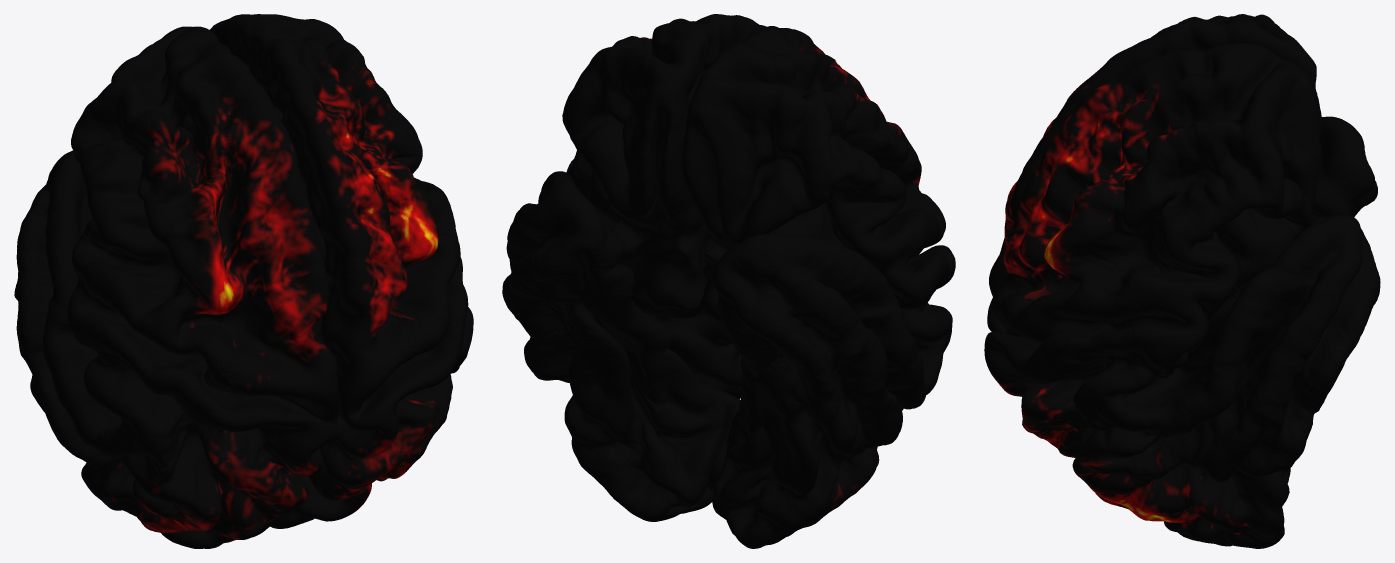
File: posterior_putamen.glb
The picture shows the model from 3 angles, left to right: view 1: azimuth 30°, elevation 25°; view 2: azimuth 150°, elevation 25°; view 3: azimuth 270°, elevation 25°; orthographic projection. The views are drawn at different scales.
Parts seen in each view (by area): view 1: world; view 2: world; view 3: world.
Part boxes in pixels (x1,y1,x2,y2): world: (14,14,473,548); world: (502,14,955,548); world: (984,14,1380,548).
Size of the model in its own units: 139 by 174 by 127.
